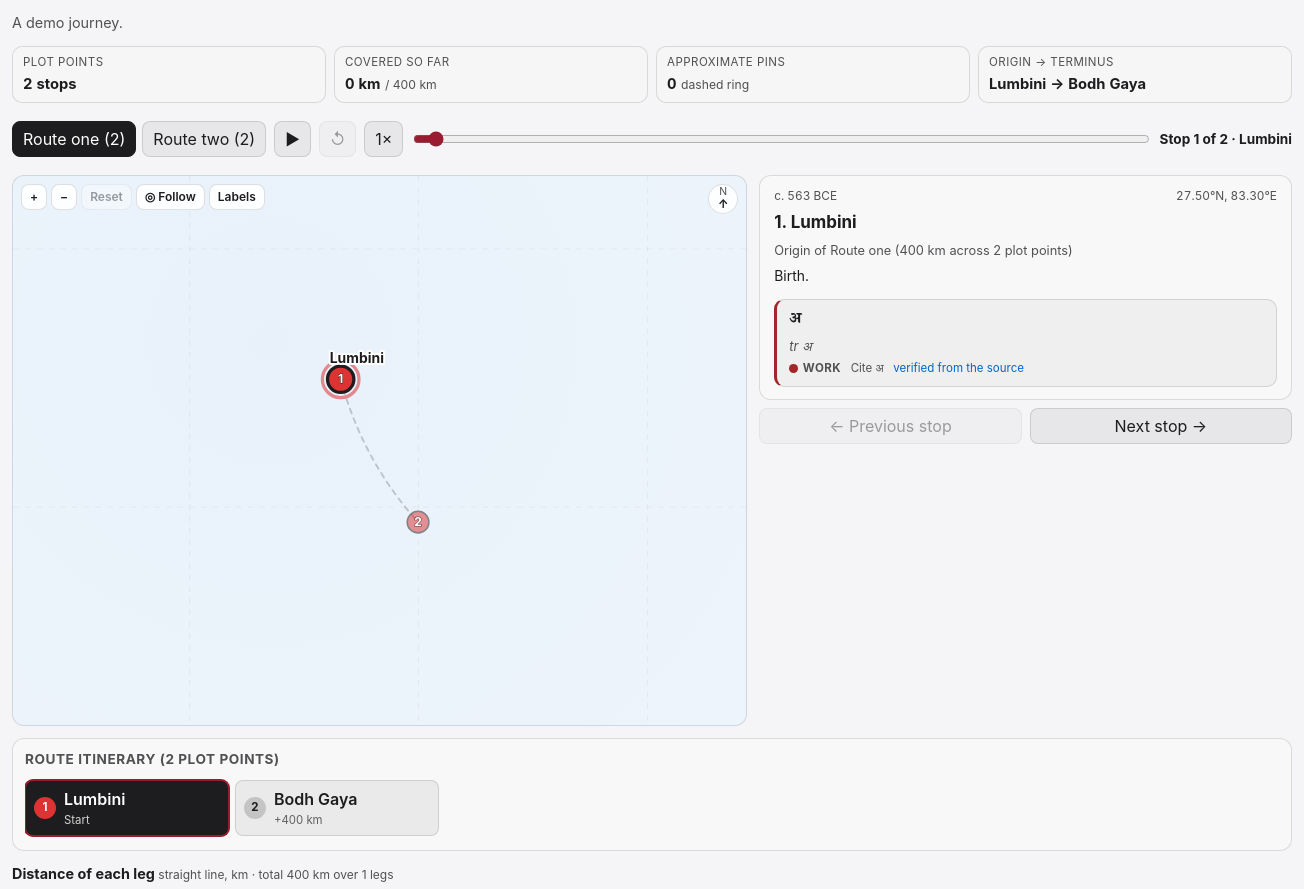
Test: Journey map › supports zoom controls, follow mode, label toggles, and chronological stop itinerary
Expected: the heading "1. Lumbini" is shown, [774, 212, 857, 232]
Expected: the button with aria-label "Reset map zoom" is disabled, [81, 184, 132, 210]
Click the button named "Zoom in map" at (34, 197), box [21, 184, 47, 210]
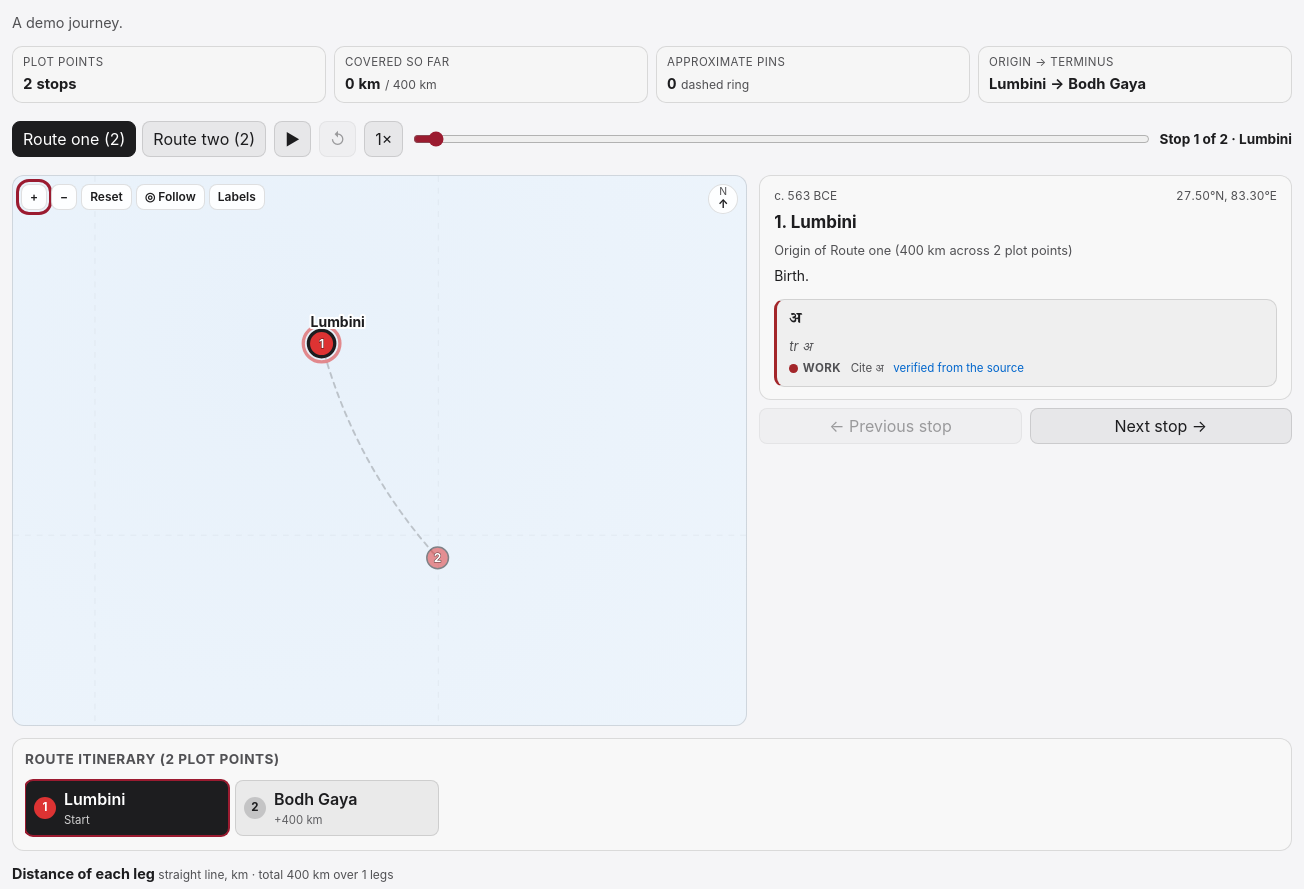
Expected: the button with aria-label "Reset map zoom" is enabled, [81, 184, 132, 210]
Click the button with aria-label "Toggle all map stop labels" at (237, 197), box [209, 184, 265, 210]
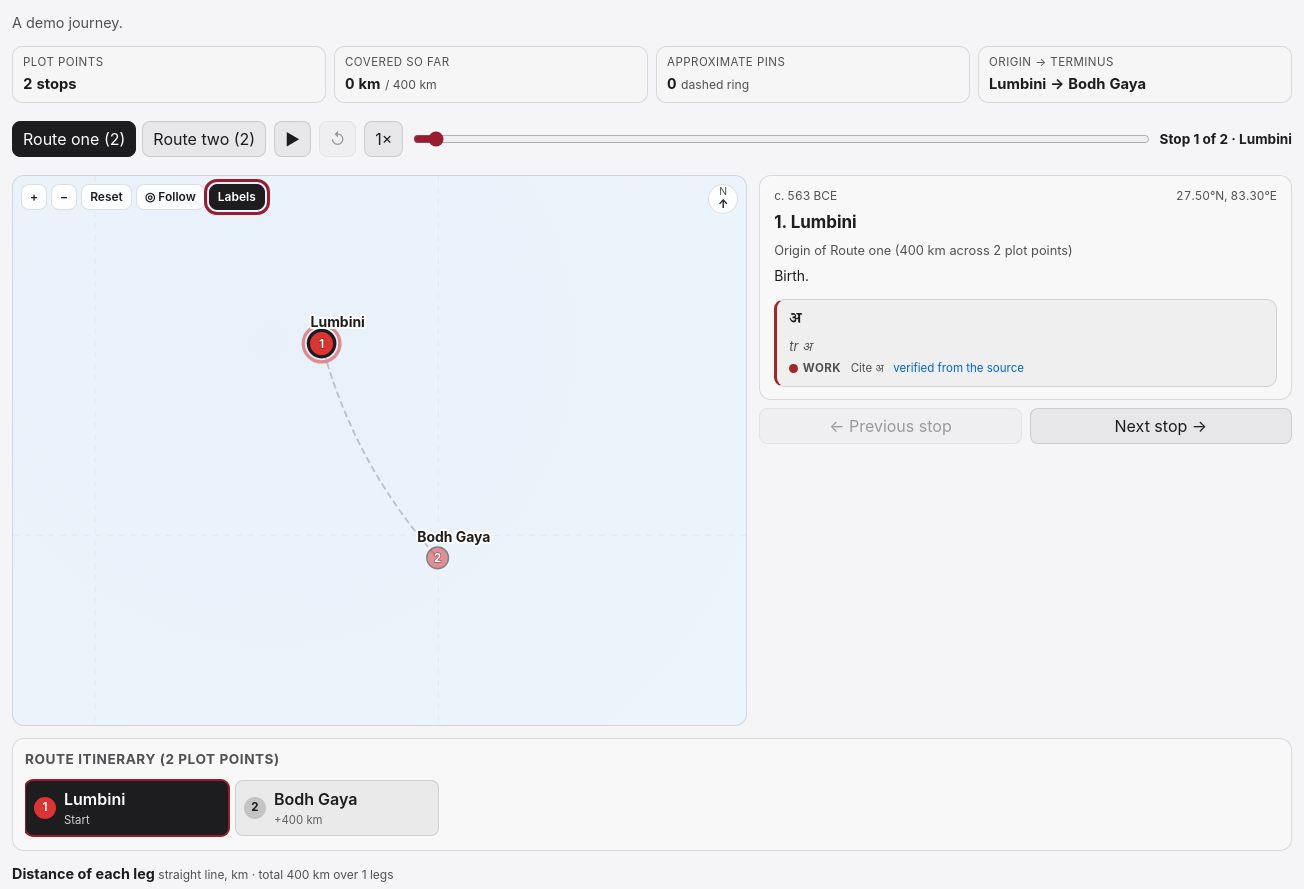
Click the button "2 Bodh Gaya +400 km" at (337, 808), box [235, 780, 439, 836]
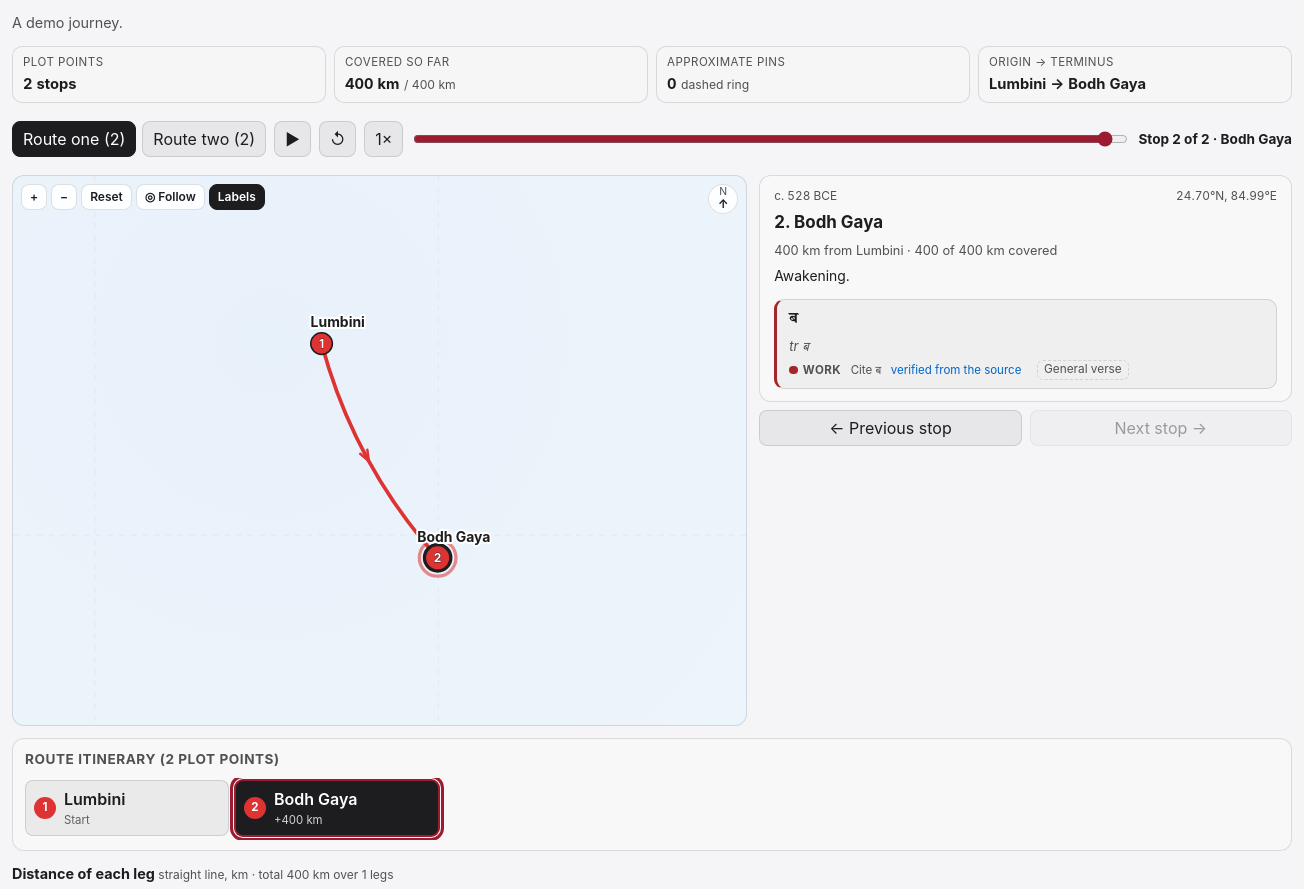
Expected: the heading "2. Bodh Gaya" is shown, [774, 212, 883, 232]
Click the button with aria-label "Reset map zoom" at (107, 197), box [81, 184, 132, 210]
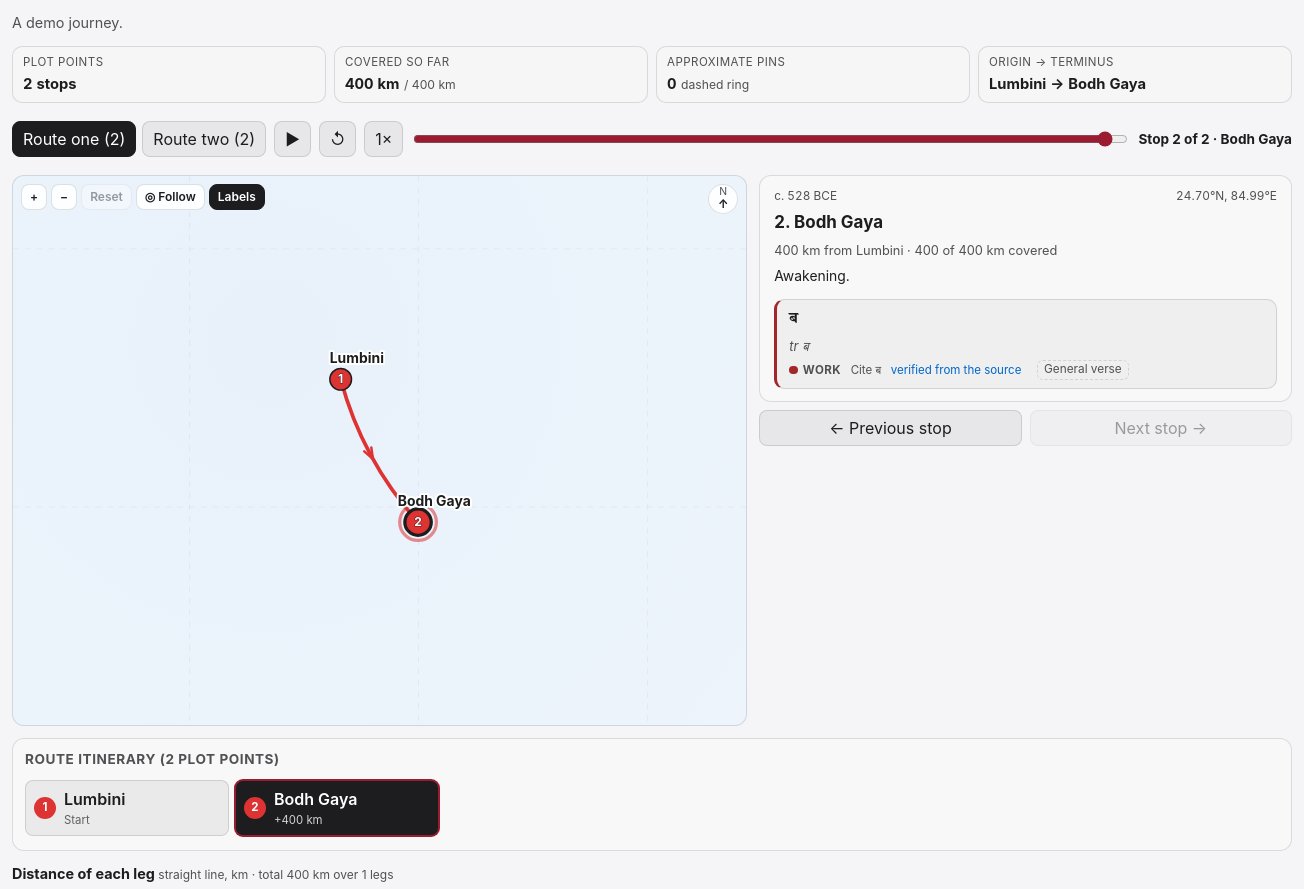
Expected: the button with aria-label "Reset map zoom" is disabled, [81, 184, 132, 210]
